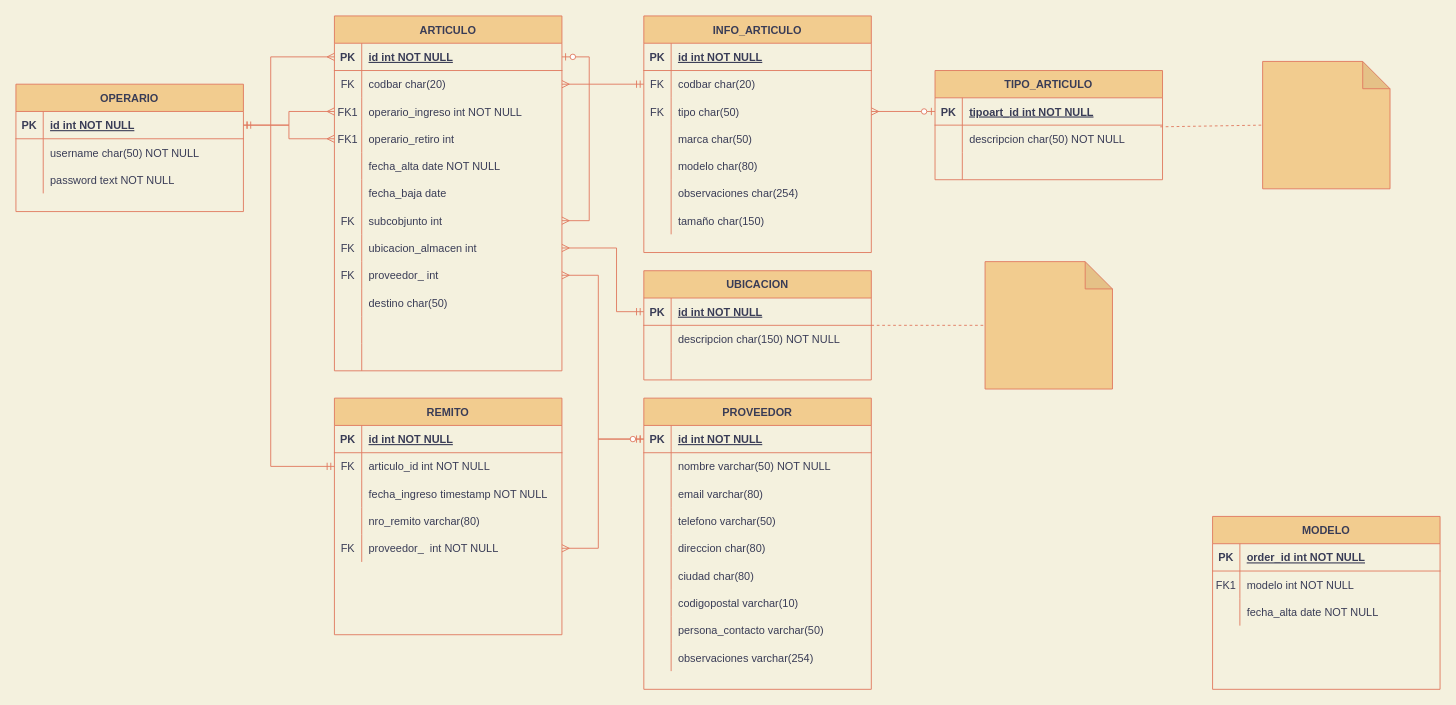
This 1456x705 diagram has some shape labels left out. The shapes that lost their labels are listed below. From the top down, each one's centre as x and y in pixels, then its label:
the point at 1326,125: 1. INSUMOS 2. HERRAMIENTAS 3. MANUFACTURA 4. REPUESTOS
the point at 1048,325: 1. RACK 2. ALMACEN 3. LIBRE 4. EN USO / TALLER
